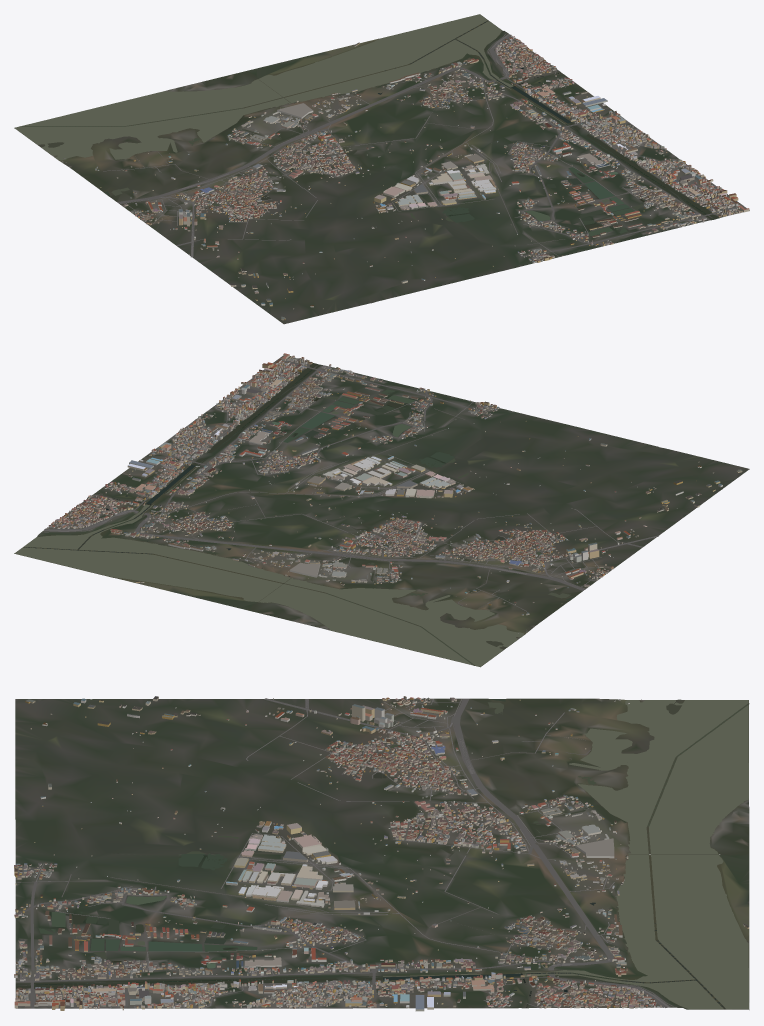
3 renders of one model, top to bottom at view 1: azimuth 30°, elevation 25°; view 2: azimuth 150°, elevation 25°; view 3: azimuth 270°, elevation 25°, orthographic. The views are drawn at different scales.
Parts seen in each view (by area): view 1: ground, buildings, water, roads; view 2: ground, buildings, water, roads; view 3: ground, buildings, water, roads.
Boxes of the visible parts, box(x1,y1,x2,y2) form: ground: box(14, 20, 749, 324); buildings: box(62, 35, 749, 320); water: box(14, 14, 719, 236); roads: box(103, 34, 743, 257); ground: box(14, 356, 749, 667); buildings: box(47, 353, 742, 633); water: box(14, 363, 574, 666); roads: box(44, 359, 658, 611); ground: box(15, 698, 749, 1009); buildings: box(14, 696, 749, 1011); water: box(16, 699, 749, 1009); roads: box(15, 698, 673, 1008).
Size of the model in its own units: 2836 by 64.39 by 2813.
